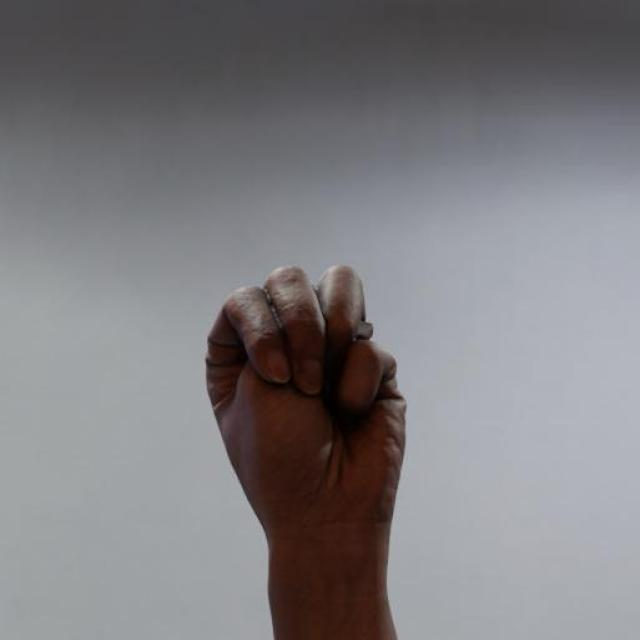M: (202, 258, 408, 521)
